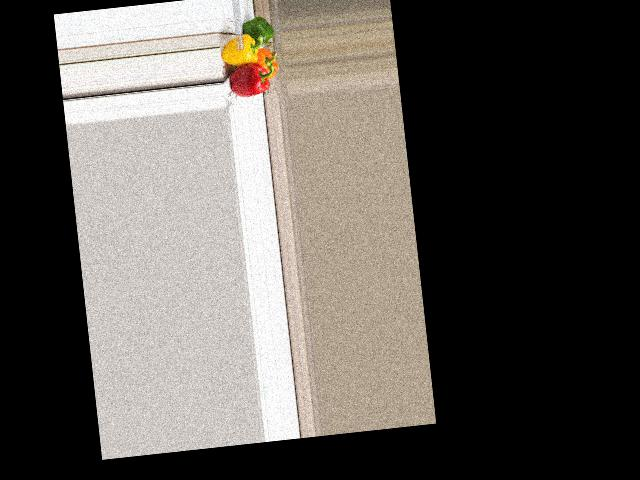bell_pepper: (253, 45, 280, 80)
